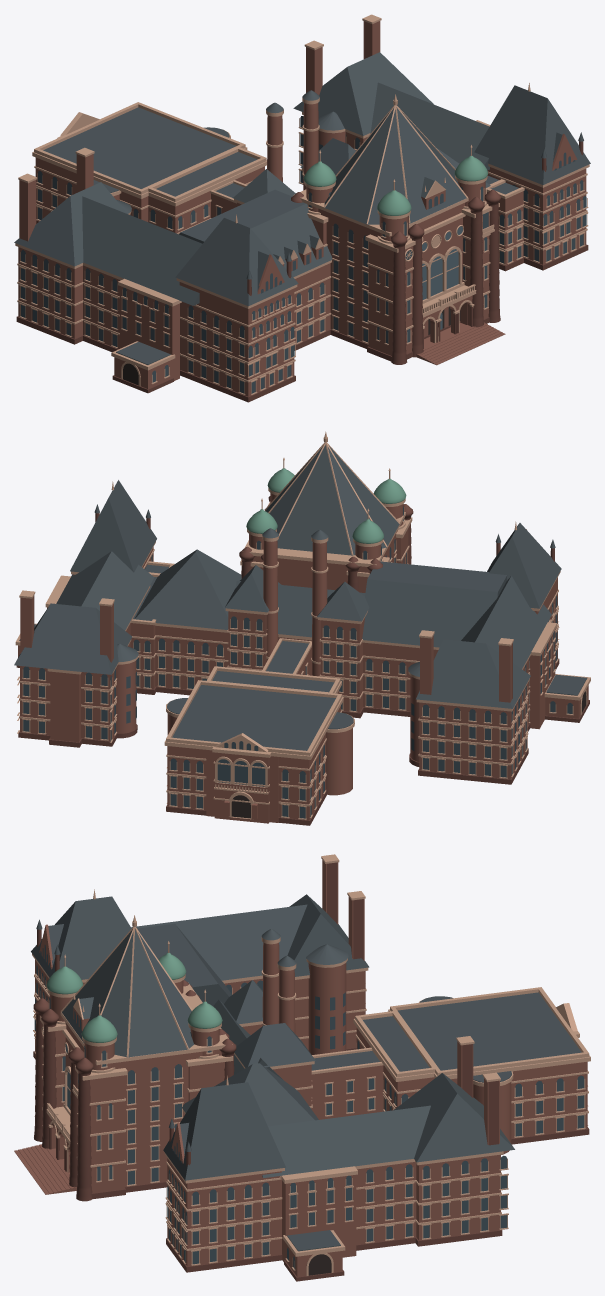
File: ontario-legislative-building-near.glb
3 views of the same model, one above another, from view 1: azimuth 30°, elevation 25°; view 2: azimuth 150°, elevation 25°; view 3: azimuth 270°, elevation 25° (orthographic). The views are drawn at different scales.
Parts seen in each view (by area): view 1: ontario-legislative-building-0-roof, ontario-legislative-building-0-stone, ontario-legislative-building-0-trim, ontario-legislative-building-0-glass, ontario-legislative-building-0-stoneDark, ontario-legislative-building-0-copper, ontario-legislative-building-0-glow; view 2: ontario-legislative-building-0-roof, ontario-legislative-building-0-stone, ontario-legislative-building-0-trim, ontario-legislative-building-0-glass, ontario-legislative-building-0-stoneDark, ontario-legislative-building-0-copper; view 3: ontario-legislative-building-0-roof, ontario-legislative-building-0-stone, ontario-legislative-building-0-trim, ontario-legislative-building-0-stoneDark, ontario-legislative-building-0-glass, ontario-legislative-building-0-copper.
Part boxes in pixels (box(x1,y1,x2,y2)): ontario-legislative-building-0-roof: box(14, 52, 590, 364); ontario-legislative-building-0-stone: box(18, 21, 586, 396); ontario-legislative-building-0-trim: box(15, 14, 589, 395); ontario-legislative-building-0-glass: box(21, 116, 586, 393); ontario-legislative-building-0-stoneDark: box(16, 21, 588, 402); ontario-legislative-building-0-copper: box(303, 155, 487, 215); ontario-legislative-building-0-glow: box(422, 226, 462, 329); ontario-legislative-building-0-roof: box(14, 445, 587, 750); ontario-legislative-building-0-stone: box(18, 493, 588, 823); ontario-legislative-building-0-trim: box(15, 431, 590, 819); ontario-legislative-building-0-glass: box(23, 506, 572, 818); ontario-legislative-building-0-stoneDark: box(16, 496, 589, 825); ontario-legislative-building-0-copper: box(246, 468, 406, 543); ontario-legislative-building-0-roof: box(31, 894, 581, 1251); ontario-legislative-building-0-stone: box(14, 860, 587, 1276); ontario-legislative-building-0-trim: box(32, 854, 590, 1275); ontario-legislative-building-0-stoneDark: box(33, 862, 589, 1281); ontario-legislative-building-0-glass: box(34, 945, 584, 1269); ontario-legislative-building-0-copper: box(46, 952, 222, 1042).
Bounding box in the file's own units: 151 × 63 × 135.
